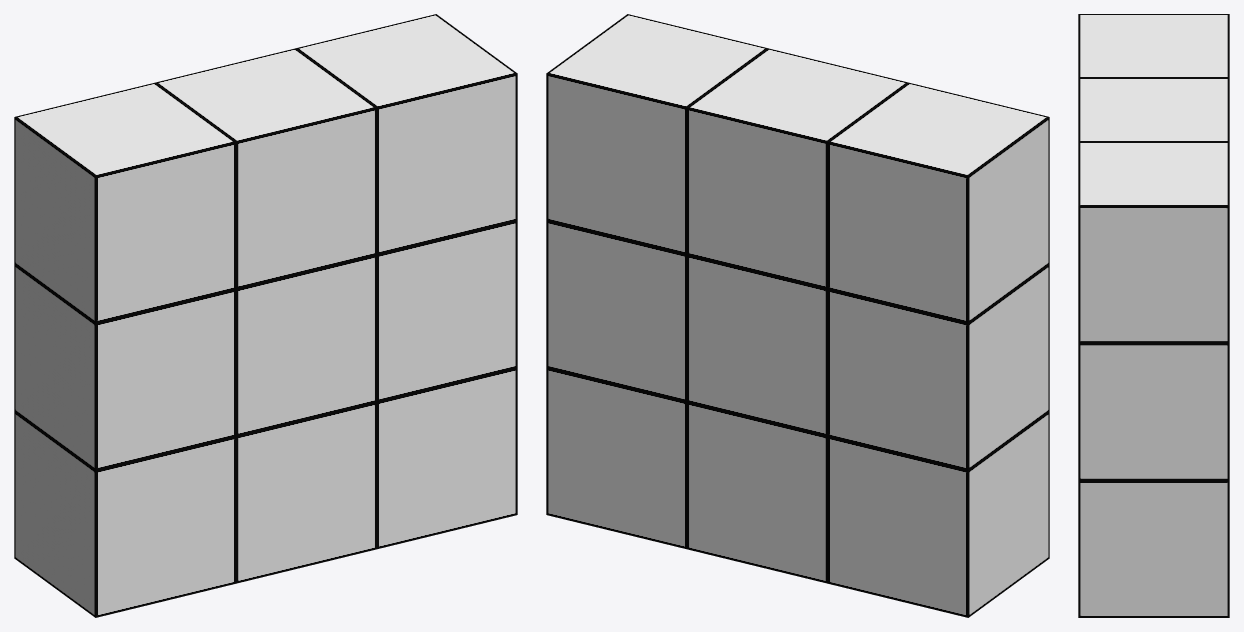
The model's file is stage04_wall.fbx.
3 views of the same model, side by side, from view 1: azimuth 30°, elevation 25°; view 2: azimuth 150°, elevation 25°; view 3: azimuth 270°, elevation 25° (orthographic). The views are drawn at different scales.
Visible parts, largest first — view 1: polySurface123; view 2: polySurface123; view 3: polySurface123.
Boxes of the visible parts, box(x1,y1,x2,y2) form: polySurface123: box(14, 14, 517, 617); polySurface123: box(546, 14, 1049, 617); polySurface123: box(1078, 14, 1229, 617).
Size of the model in its own units: 3 by 3 by 1.
Materials: 1 (1 with a texture image).
